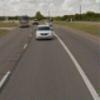cars: (32, 18, 39, 26)
